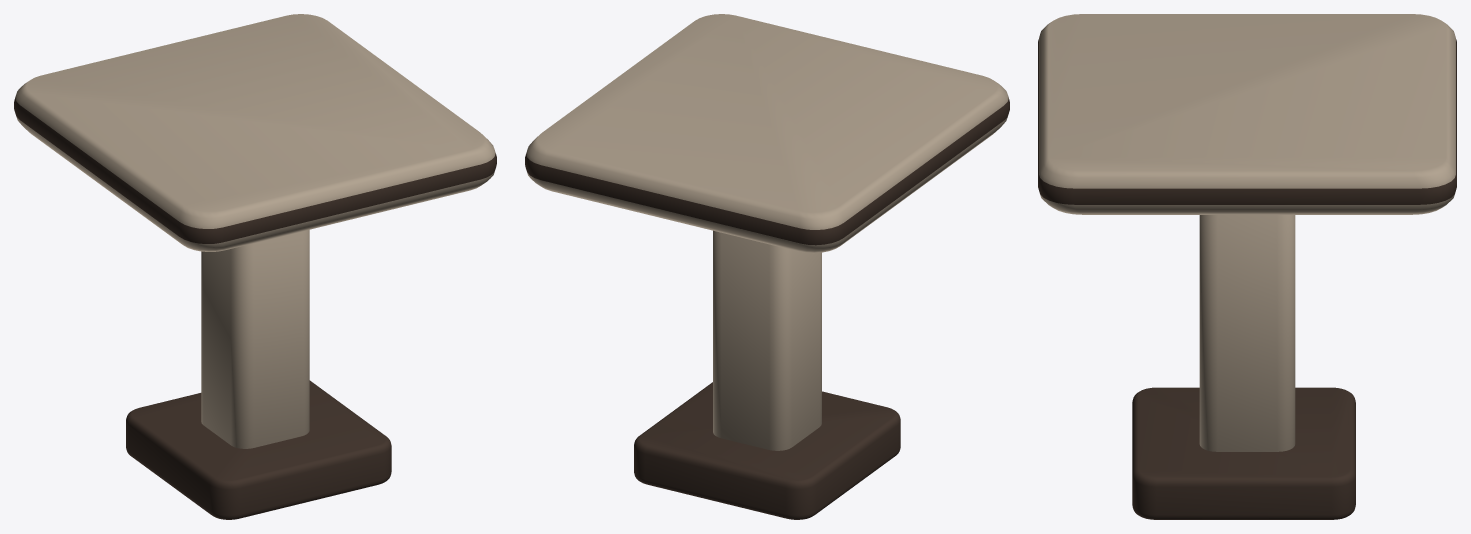
Rendered from small_dining_table.fbx.
3 views of the same model, side by side, from view 1: azimuth 30°, elevation 25°; view 2: azimuth 150°, elevation 25°; view 3: azimuth 270°, elevation 25° (orthographic). The views are drawn at different scales.
Visible parts, largest first — view 1: small_table_top, small_table_column, small_table_bottom; view 2: small_table_top, small_table_column, small_table_bottom; view 3: small_table_top, small_table_bottom, small_table_column.
Part boxes in pixels (x1=…): small_table_top: x1=14, y1=14, x2=496, y2=251; small_table_column: x1=201, y1=229, x2=309, y2=448; small_table_bottom: x1=126, y1=380, x2=391, y2=519; small_table_top: x1=525, y1=14, x2=1009, y2=253; small_table_column: x1=713, y1=230, x2=821, y2=450; small_table_bottom: x1=634, y1=382, x2=900, y2=519; small_table_top: x1=1038, y1=14, x2=1456, y2=214; small_table_bottom: x1=1132, y1=387, x2=1355, y2=519; small_table_column: x1=1199, y1=215, x2=1295, y2=451.
Size of the model in its own units: 69.29 by 74.57 by 74.18.
